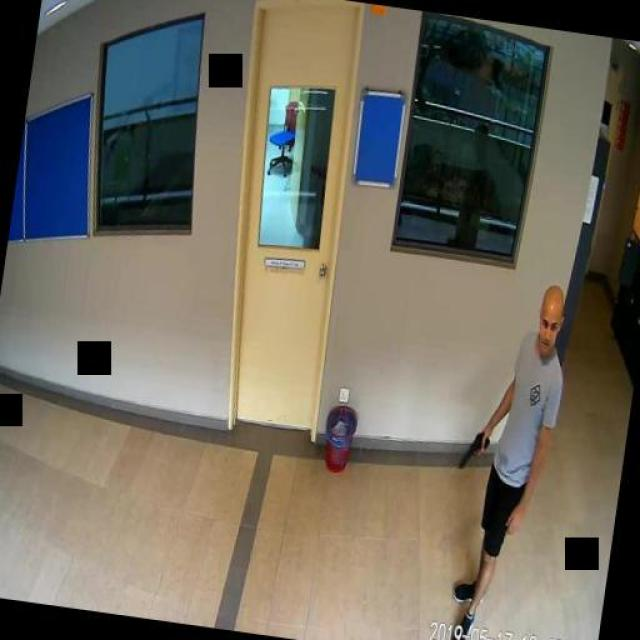gun: (458, 428, 488, 470)
